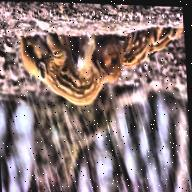boar: (13, 13, 108, 108)
